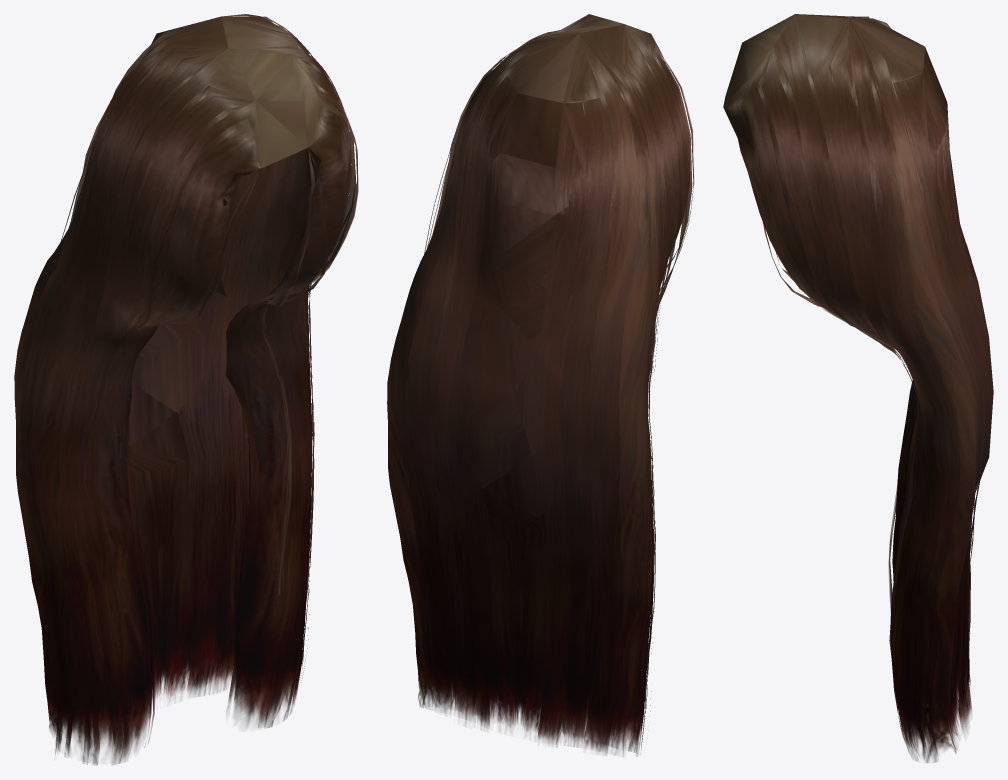
The model's file is long-asian.glb.
3 renders of one model, left to right at view 1: azimuth 30°, elevation 25°; view 2: azimuth 150°, elevation 25°; view 3: azimuth 270°, elevation 25°, orthographic. The views are drawn at different scales.
Parts seen in each view (by area): view 1: hair_long; view 2: hair_long; view 3: hair_long.
Part boxes in pixels (x1=…): hair_long: x1=14, y1=14, x2=358, y2=765; hair_long: x1=387, y1=14, x2=694, y2=756; hair_long: x1=723, y1=14, x2=993, y2=762.
Bounding box in the file's own units: 0.3006 × 0.7492 × 0.2626.
1 material, 1 textured.
